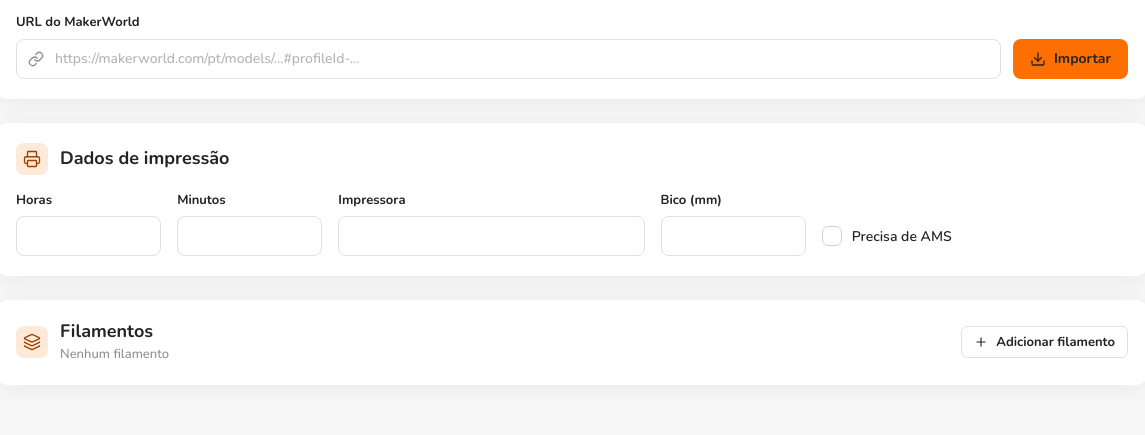
Test: PrintProfileImport › model without profiles
The width and height of the screenshot is (1145, 435).
Step 1. Type "https://makerworld.com/pt/models/3007827-sea-animals-set?from=recommend#profileId-3387944" into the field labelled "URL do MakerWorld" → (508, 58), box top-left (16, 38), bottom-right (1001, 78)
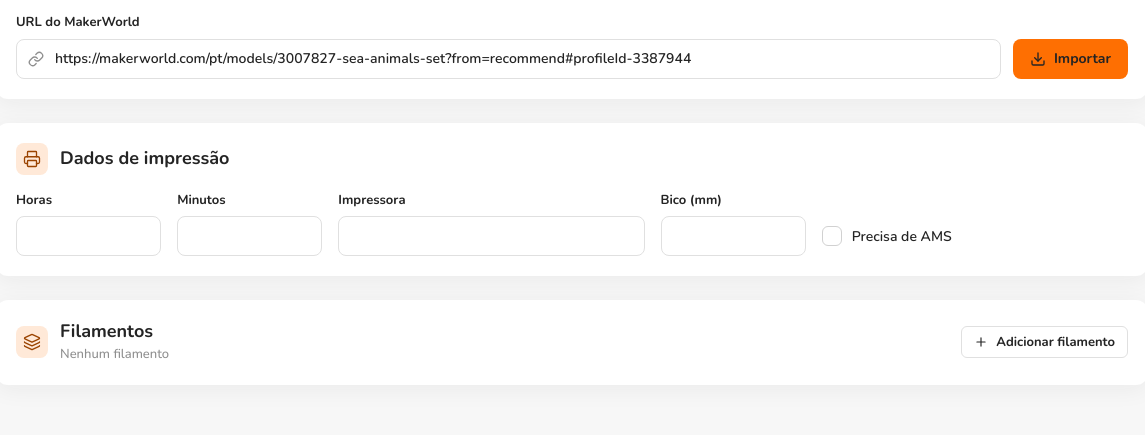
Step 2. Click the button "Importar" → (1070, 58), box top-left (1013, 38), bottom-right (1128, 78)
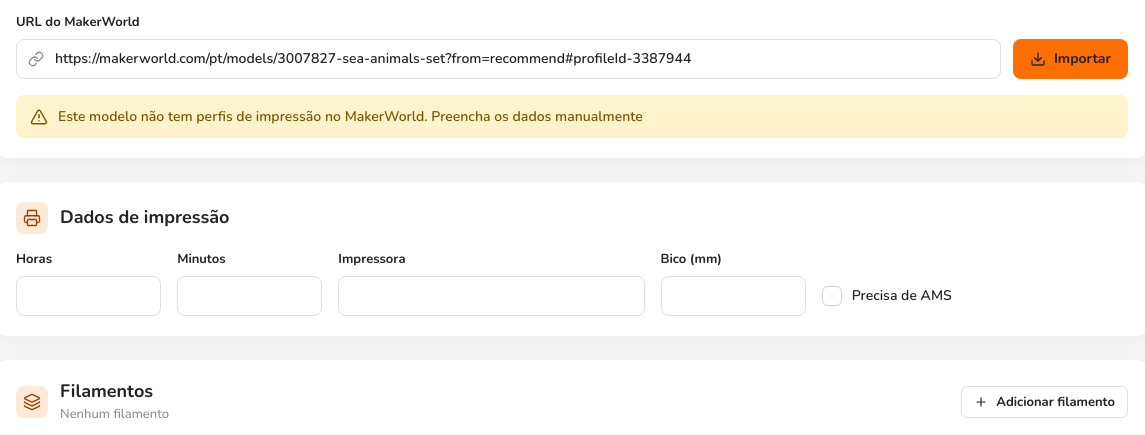
Expected: the checkbox labelled "Precisa de AMS" is not checked, top-left (822, 286), bottom-right (842, 306)
Expected: the text "Este modelo não tem perfis de impressão no MakerWorld. Preencha os dados manualmente" is shown, top-left (58, 106), bottom-right (643, 126)
Expected: no headings "Filamento" are shown
